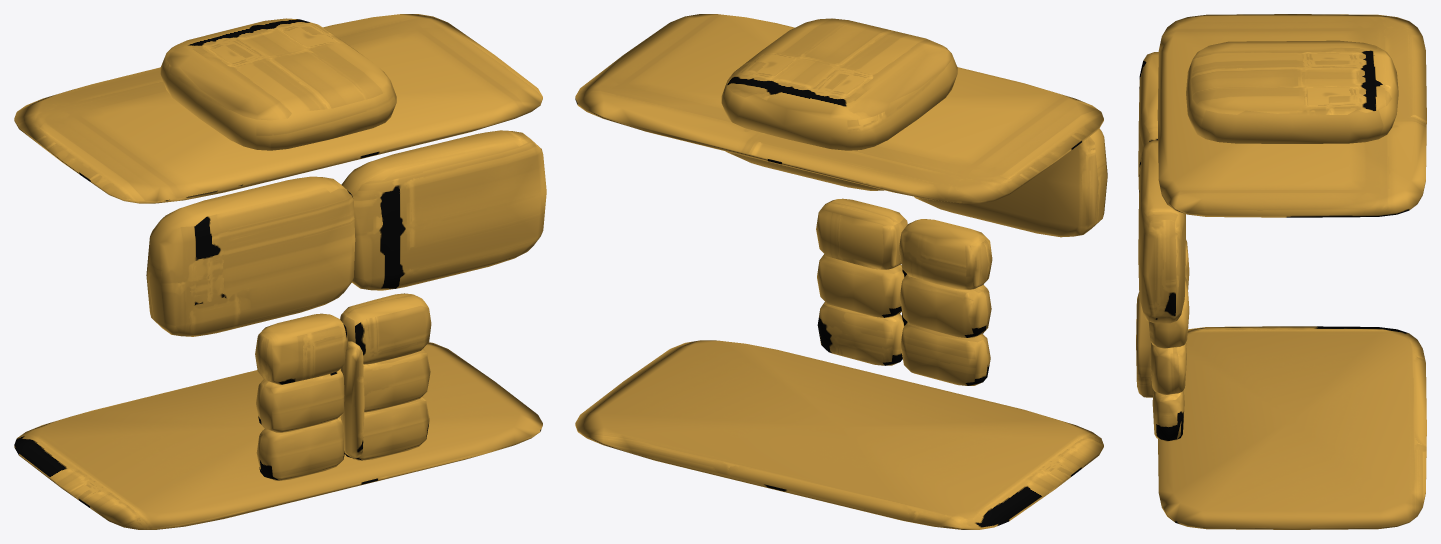
File: Centinela_Peto_Oro.fbx
3 renders of one model, left to right at view 1: azimuth 30°, elevation 25°; view 2: azimuth 150°, elevation 25°; view 3: azimuth 270°, elevation 25°, orthographic. The views are drawn at different scales.
Parts seen in each view (by area): view 1: Centinela_Peto_Oro; view 2: Centinela_Peto_Oro; view 3: Centinela_Peto_Oro.
Boxes of the visible parts, <box> form: Centinela_Peto_Oro: <box>14,14,546,529</box>; Centinela_Peto_Oro: <box>575,14,1107,529</box>; Centinela_Peto_Oro: <box>1136,14,1426,529</box>.
Size of the model in its own units: 2.13 by 1.81 by 1.3.
